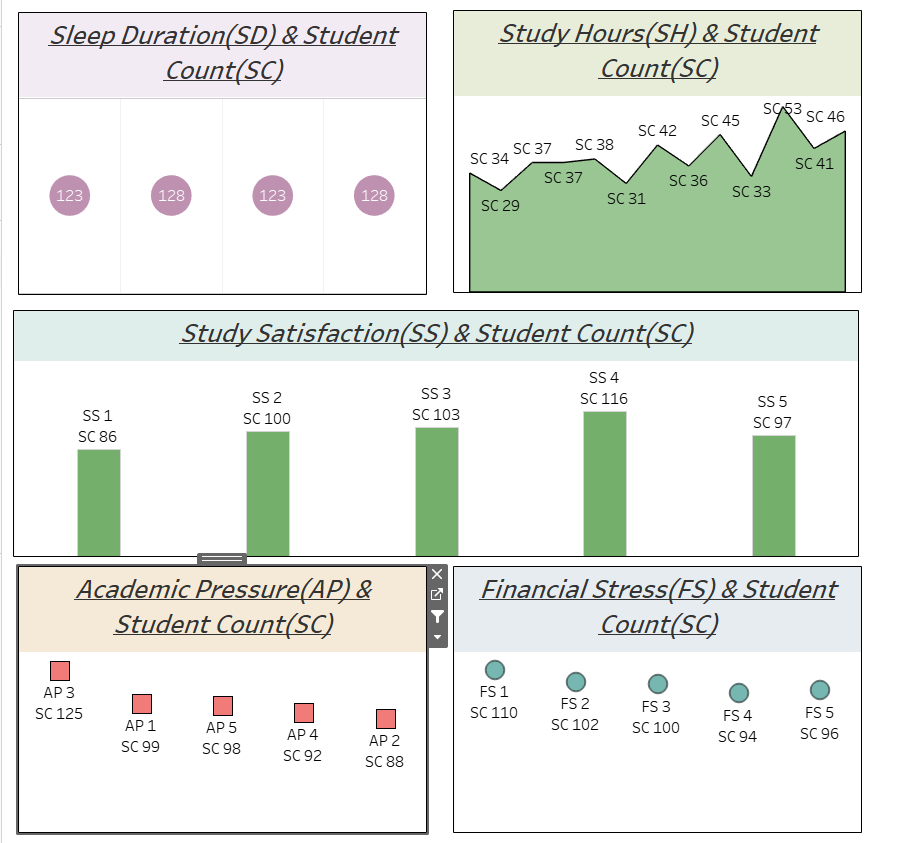

This screenshot's page, from the dashboard's own definition file:
{"tool":"tableau","page":{"name":"Student Count Analysis","canvas":[1000,1000],"units":"permille","ordinal":0},"visuals":[{"type":"worksheet","title":"SH & SC","mark":"Area","rows":["Index_Column"],"cols":["Study_Hours"],"box":[359,18.8,325.5,332.6]},{"type":"worksheet","title":"SD & SC","mark":"Pie","cols":["Sleep_Duration"],"box":[12.4,21.2,325.5,332.6]},{"type":"worksheet","title":"SS & SC","mark":"Automatic","rows":["Index_Column"],"cols":["Study_Satisfaction"],"box":[8.8,371.3,672.8,290.2]},{"type":"worksheet","title":"AP & SC","mark":"Square","rows":["Index_Column"],"cols":["Academic_Pressure"],"box":[12.4,672.1,325.5,313.8]},{"type":"worksheet","title":"FC & SC","mark":"Circle","rows":["Index_Column"],"cols":["Financial_Stress"],"box":[359,672.1,325.5,313.8]}]}

Visuals, with their boxes on the dashboard's canvas, which has no fixed pixel size, in thousandths of its width and height (x1, y1, x2, y2). These are canvas units, not pixel positions in the 908x843 screenshot, which may show the page scaled, cropped or inside an application window:
"SH & SC" worksheet (Area marks): bbox=[359, 19, 684, 351]
"SD & SC" worksheet (Pie marks): bbox=[12, 21, 338, 354]
"SS & SC" worksheet: bbox=[9, 371, 682, 662]
"AP & SC" worksheet (Square marks): bbox=[12, 672, 338, 986]
"FC & SC" worksheet (Circle marks): bbox=[359, 672, 684, 986]
